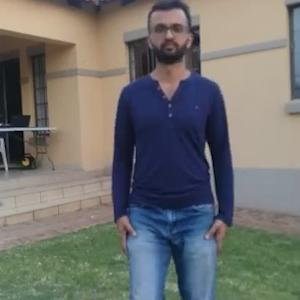follow: (114, 15, 222, 299)
